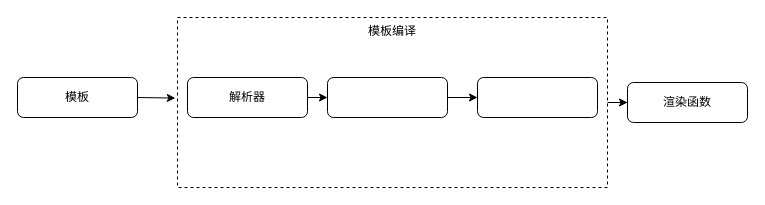
Some shapes in this 765 by 205 pixel diagram are drawn without their labels. Here are the shapes that lost their labels. From the top down, the centre of each, then its label:
pixel 387 97: 优化器
pixel 537 97: 代码生成器
